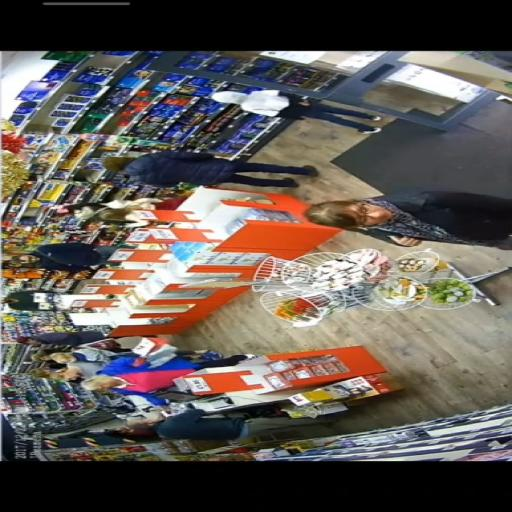workers: (82, 370, 210, 420), (36, 347, 187, 384), (53, 196, 157, 230), (9, 242, 110, 275), (0, 288, 89, 314), (14, 330, 120, 348)
